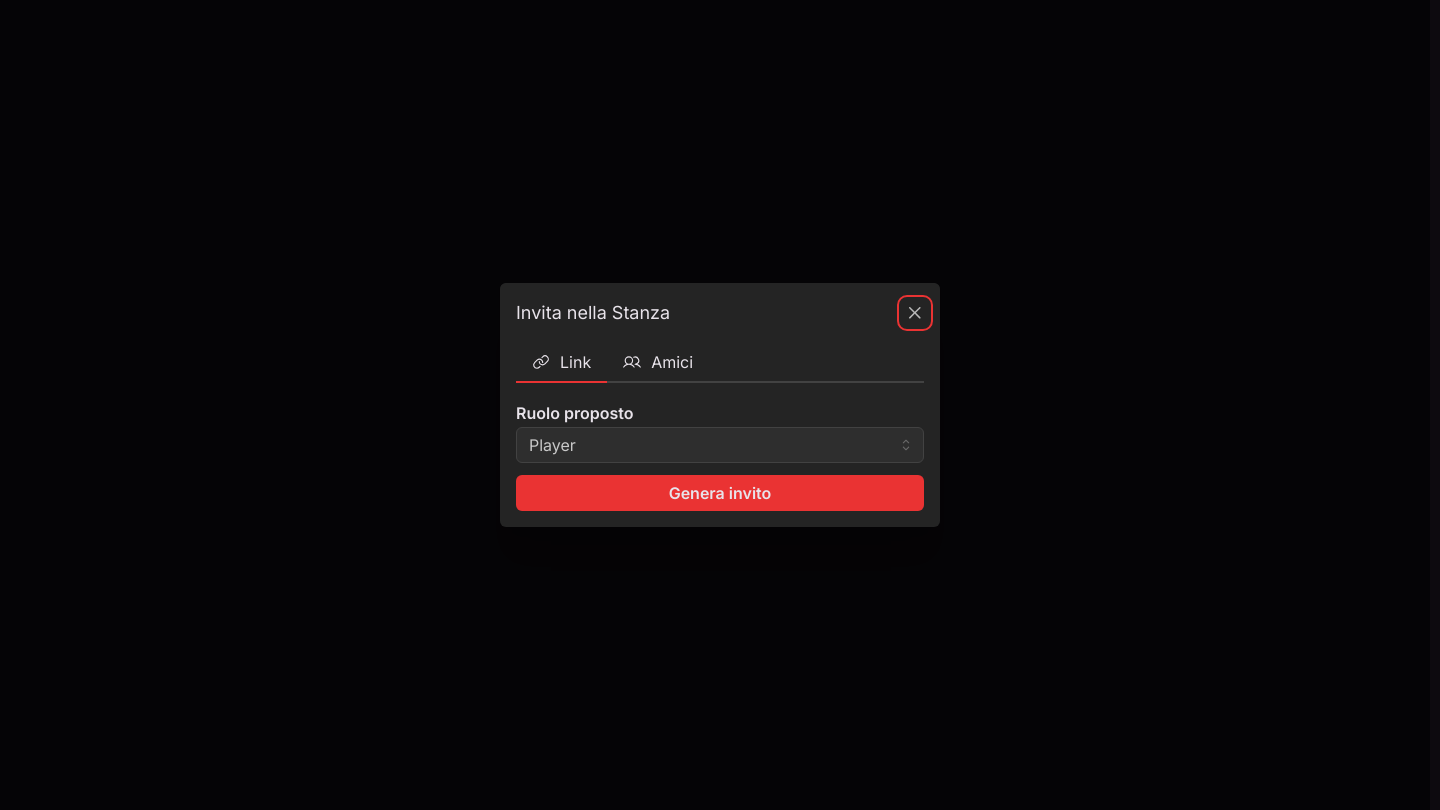
Test: InviteModal › locks the role and hides the generate button afterwards
Click the button "Genera invito".
click(720, 493)  # box [516,475,924,511]
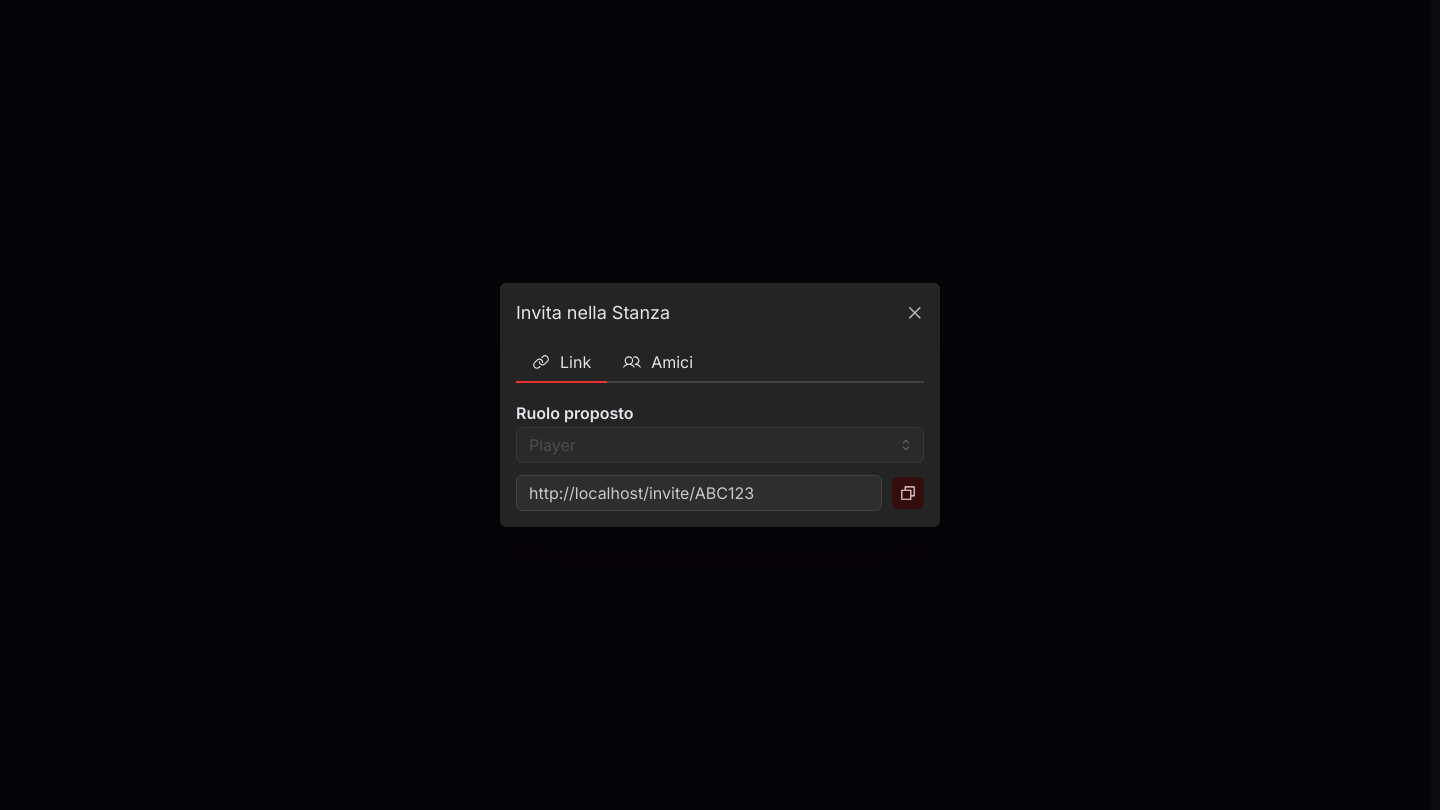
Result: the dropdown labelled "Ruolo proposto" is disabled at [516,427,924,463]
Result: the button "Genera invito" is gone
